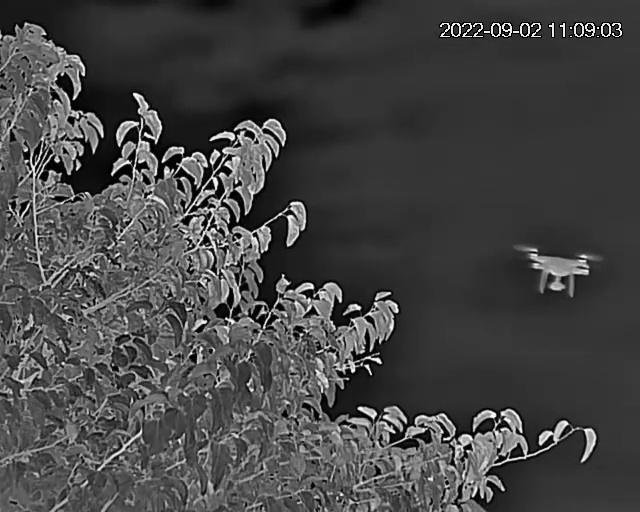DJI-Phantom: (518, 245, 603, 299)
